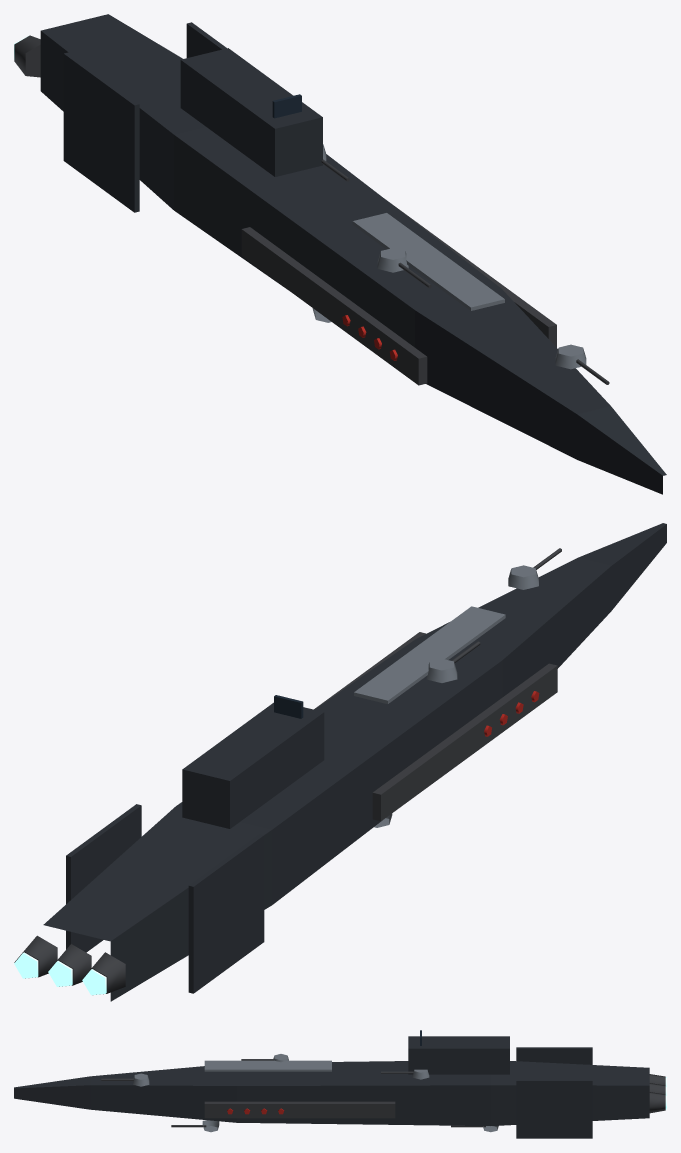
File: space_ship_destroyer_mk4_lod1.glb
The picture shows the model from 3 angles, top to bottom: view 1: azimuth 30°, elevation 25°; view 2: azimuth 150°, elevation 25°; view 3: azimuth 270°, elevation 25°; orthographic projection. The views are drawn at different scales.
Parts seen in each view (by area): view 1: body, engine_0, turret_0, turret_2; view 2: body, engine_0, engine_2, engine_1, turret_0, turret_2; view 3: body, engine_2, turret_0, turret_1, turret_4.
Boxes of the visible parts, bbox=[...] form: body: bbox=[40, 14, 666, 494]; engine_0: bbox=[14, 35, 40, 77]; turret_0: bbox=[555, 344, 609, 384]; turret_2: bbox=[377, 248, 431, 288]; body: bbox=[43, 523, 666, 1001]; engine_0: bbox=[82, 952, 125, 995]; engine_2: bbox=[14, 935, 57, 978]; engine_1: bbox=[48, 944, 91, 986]; turret_0: bbox=[508, 548, 561, 589]; turret_2: bbox=[426, 641, 480, 682]; body: bbox=[14, 1030, 649, 1138]; engine_2: bbox=[649, 1092, 666, 1113]; turret_0: bbox=[101, 1073, 149, 1086]; turret_1: bbox=[171, 1120, 219, 1132]; turret_4: bbox=[381, 1069, 429, 1079].
Bounding box in the file's own units: 8.4 × 9.24 × 61.46.
